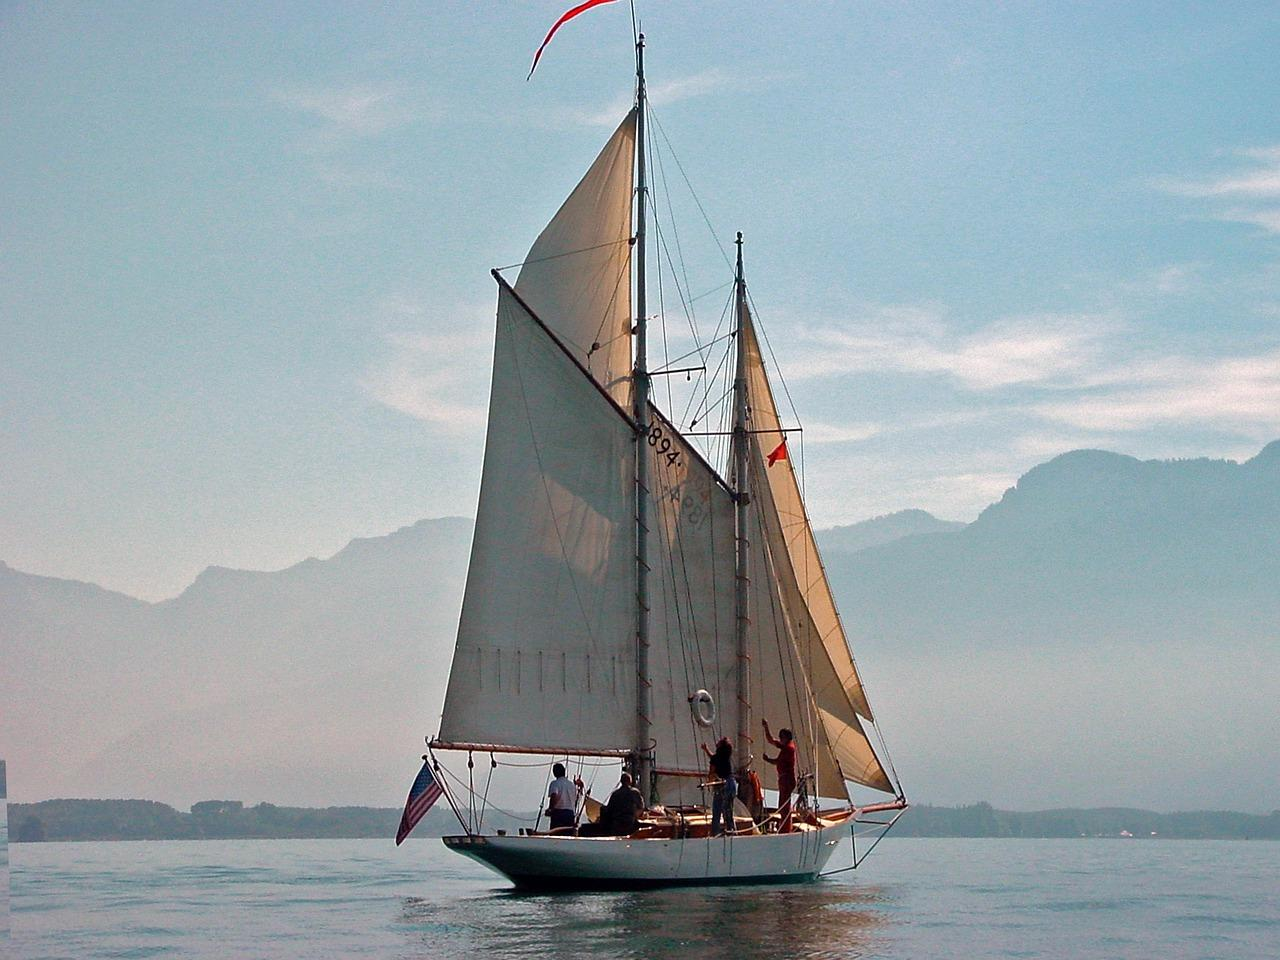Ship: (396, 31, 910, 897)
